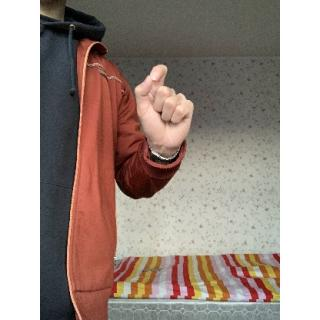FAA: (129, 65, 197, 154)
